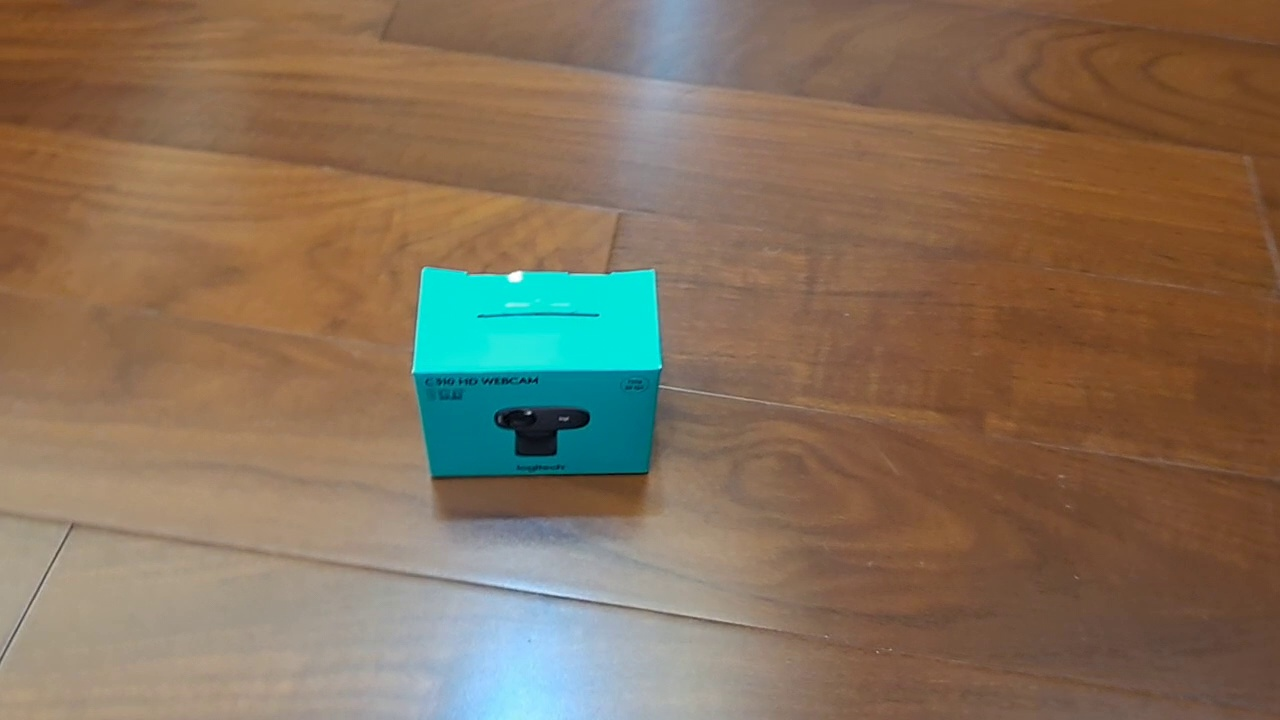webcam: (409, 264, 664, 479)
